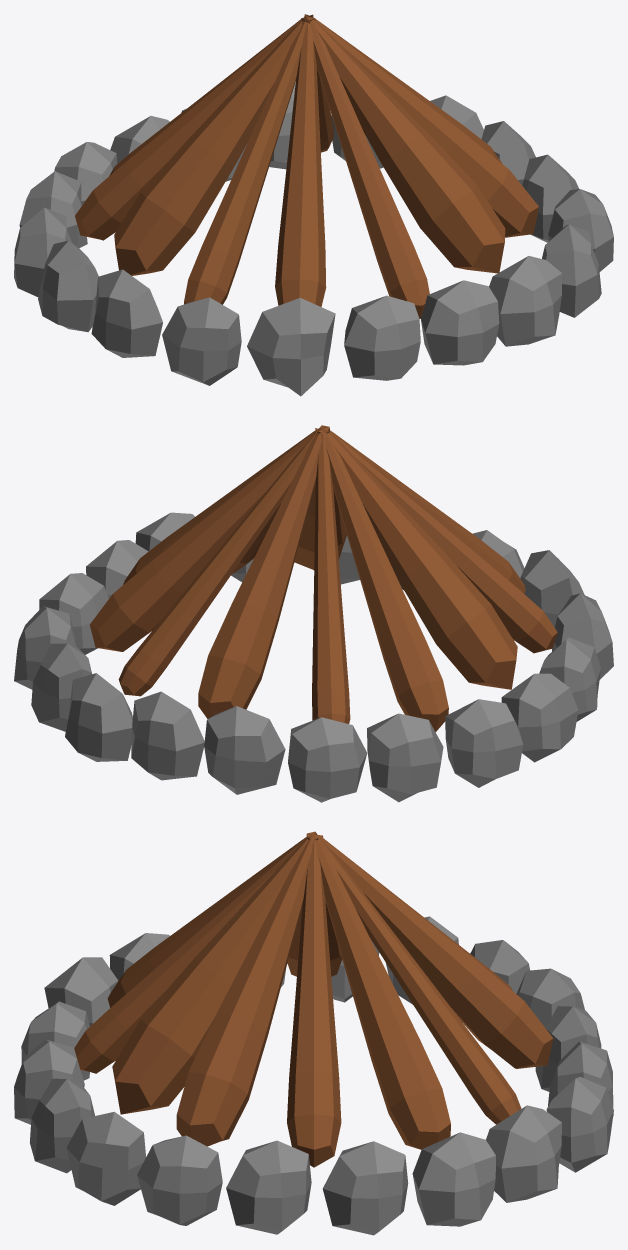
File: Campfire.fbx
3 renders of one model, top to bottom at view 1: azimuth 30°, elevation 25°; view 2: azimuth 150°, elevation 25°; view 3: azimuth 270°, elevation 25°, orthographic. The views are drawn at different scales.
Parts seen in each view (by area): view 1: Logs, Rock, Rock.016, Rock.015, Rock.001, Rock.014, Rock.002, Rock.003, Rock.013, Rock.004, Rock.017, Rock.012 (+6 smaller); view 2: Logs, Rock.006, Rock.004, Rock.005, Rock.018, Rock.007, Rock.008, Rock.003, Rock.009, Rock.002, Rock.011, Rock.010 (+6 smaller); view 3: Logs, Rock.010, Rock.012, Rock.011, Rock.017, Rock.009, Rock.013, Rock.008, Rock.014, Rock.016, Rock, Rock.006 (+6 smaller).
Part boxes in pixels (<box>): Logs: <box>75,14,538,318</box>; Rock: <box>247,298,335,396</box>; Rock.016: <box>420,280,499,365</box>; Rock.015: <box>344,295,420,380</box>; Rock.001: <box>162,297,241,385</box>; Rock.014: <box>489,256,562,346</box>; Rock.002: <box>91,269,162,357</box>; Rock.003: <box>38,240,98,332</box>; Rock.013: <box>542,224,601,317</box>; Rock.004: <box>14,207,71,296</box>; Rock.017: <box>548,189,613,271</box>; Rock.012: <box>522,154,578,242</box>; Logs: <box>90,425,557,731</box>; Rock.006: <box>204,706,285,794</box>; Rock.004: <box>445,699,523,787</box>; Rock.005: <box>367,713,443,802</box>; Rock.018: <box>288,717,367,802</box>; Rock.007: <box>131,691,204,780</box>; Rock.008: <box>65,673,132,761</box>; Rock.003: <box>501,673,578,762</box>; Rock.009: <box>31,643,91,731</box>; Rock.002: <box>539,637,600,721</box>; Rock.011: <box>39,573,108,654</box>; Rock.010: <box>14,606,76,689</box>; Logs: <box>74,831,553,1167</box>; Rock.010: <box>412,1132,495,1226</box>; Rock.012: <box>226,1140,311,1234</box>; Rock.011: <box>322,1141,408,1235</box>; Rock.017: <box>137,1135,222,1225</box>; Rock.009: <box>486,1105,561,1202</box>; Rock.013: <box>66,1111,145,1205</box>; Rock.008: <box>546,1076,613,1172</box>; Rock.014: <box>29,1078,94,1173</box>; Rock.016: <box>14,1039,84,1124</box>; Rock: <box>44,957,118,1026</box>; Rock.006: <box>535,1006,601,1091</box>.
Size of the model in its own units: 93.79 by 47.48 by 90.78.
